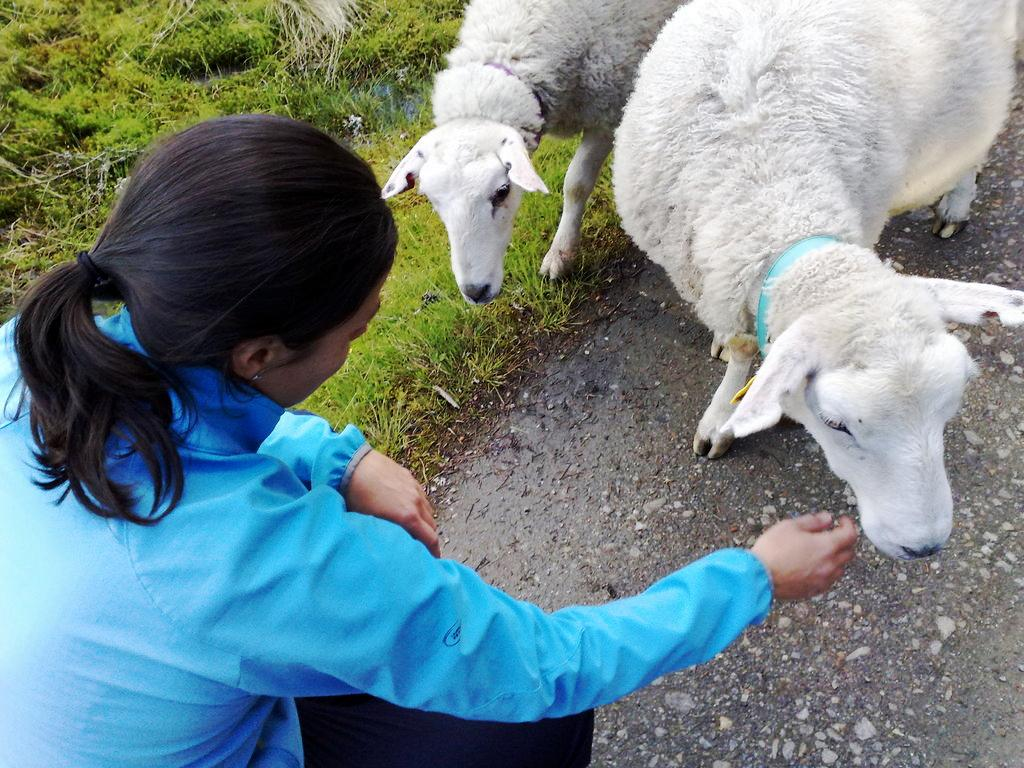Sheep: (626, 0, 1006, 577), (380, 0, 694, 305)
